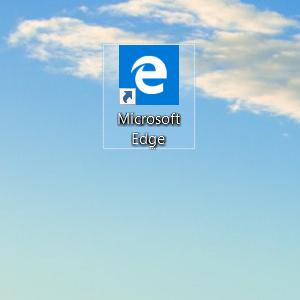edge: (119, 45, 179, 105)
